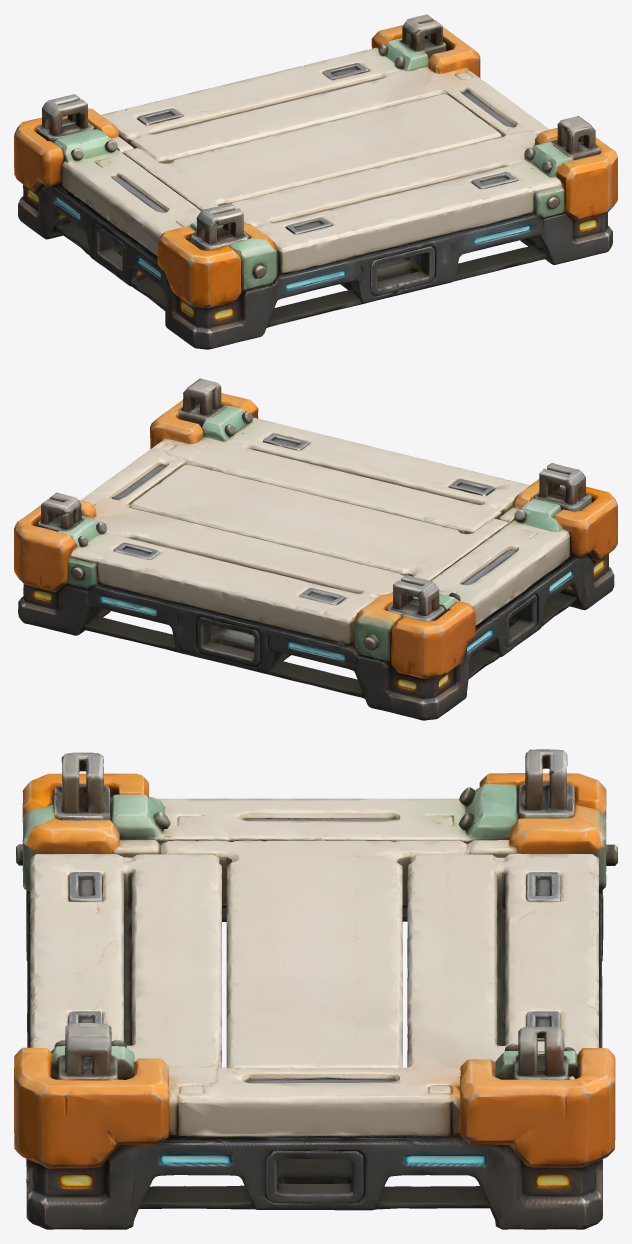
Rendered from futuristic platform 3d model.glb.
3 renders of one model, top to bottom at view 1: azimuth 30°, elevation 25°; view 2: azimuth 150°, elevation 25°; view 3: azimuth 270°, elevation 25°, orthographic. The views are drawn at different scales.
Parts seen in each view (by area): view 1: tripo_node_d1ce5667-57ce-4c33-bf4a-f030fac9befa; view 2: tripo_node_d1ce5667-57ce-4c33-bf4a-f030fac9befa; view 3: tripo_node_d1ce5667-57ce-4c33-bf4a-f030fac9befa.
Part boxes in pixels (<box>): tripo_node_d1ce5667-57ce-4c33-bf4a-f030fac9befa: <box>14,14,617,349</box>; tripo_node_d1ce5667-57ce-4c33-bf4a-f030fac9befa: <box>14,378,617,720</box>; tripo_node_d1ce5667-57ce-4c33-bf4a-f030fac9befa: <box>14,749,617,1229</box>.
Bounding box in the file's own units: 1 × 0.2654 × 0.7894.
Materials: 1 (1 with a texture image).
